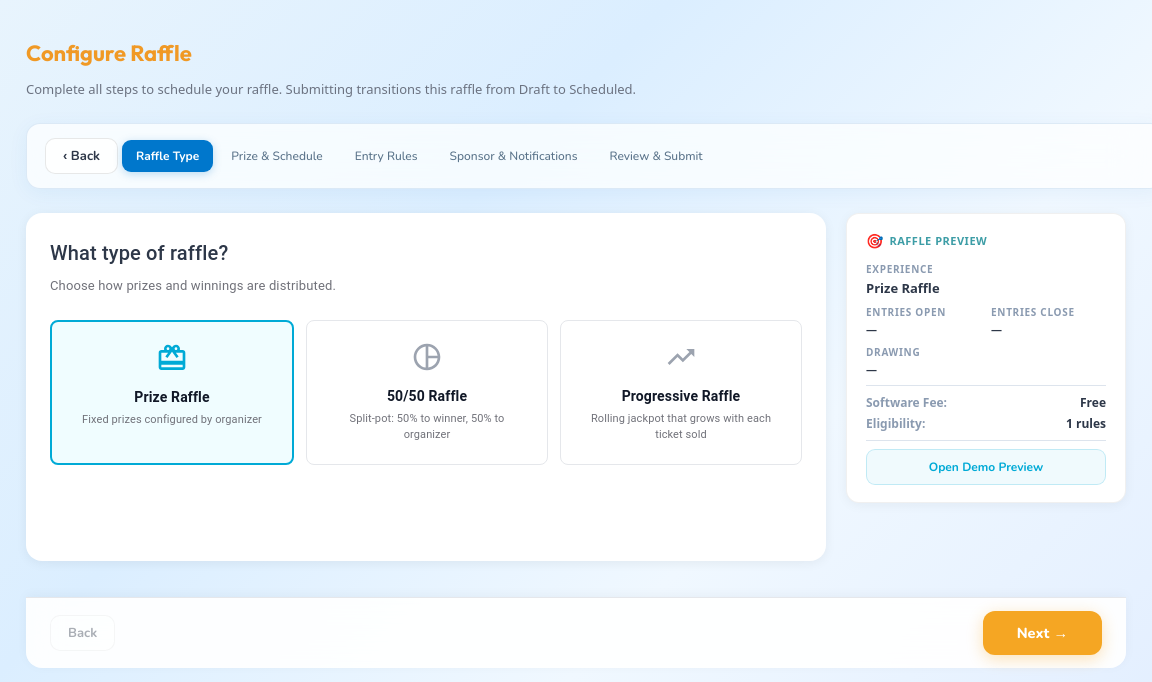
Test: RaffleConfig - 50/50 split configuration › updates winner/organizer percentages when the slider changes
Click the text "50/50 Raffle".
click(427, 392)  # box [306,320,548,465]
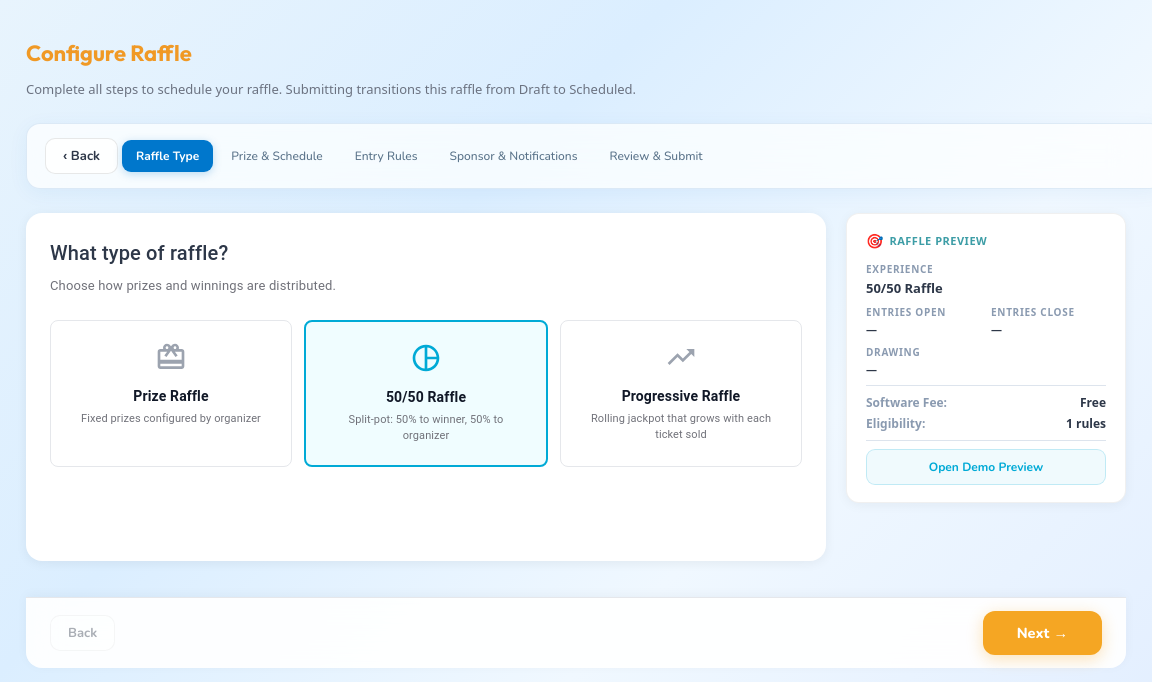
Click the button "Next →".
click(1042, 633)  # box [983,611,1102,655]
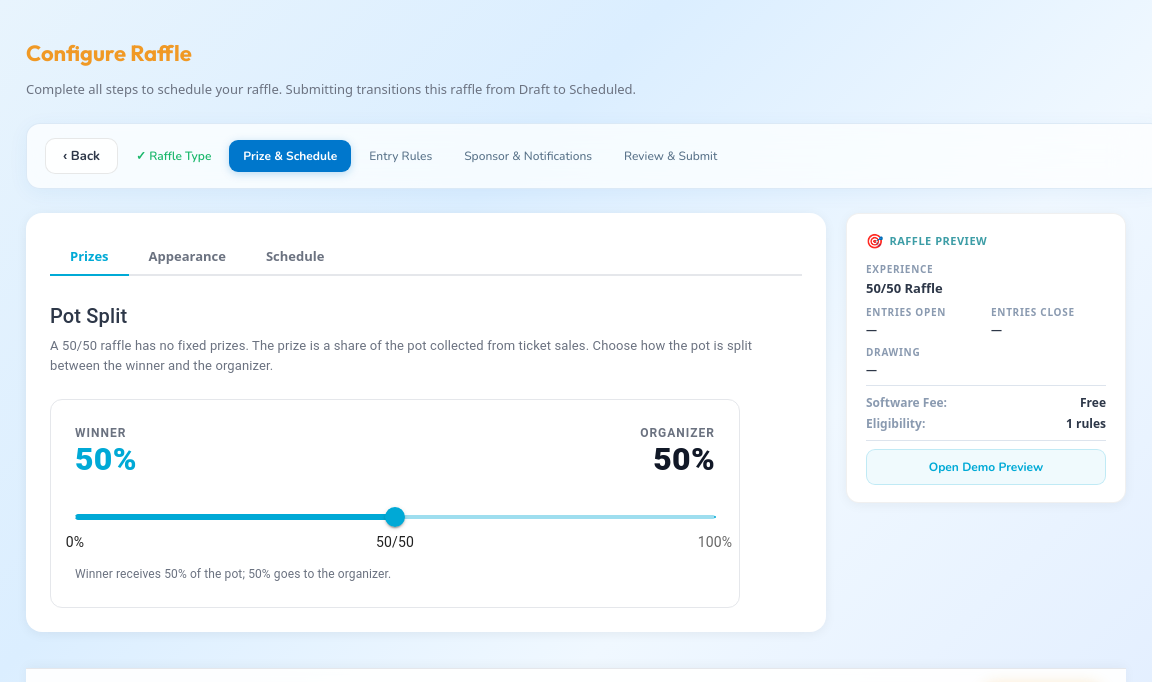
Now the heading "Pot Split" is shown, box [50,304,127,328]
Set the slider named "Winner share of the pot" to "70" at (395, 517), box [385,507,405,527]
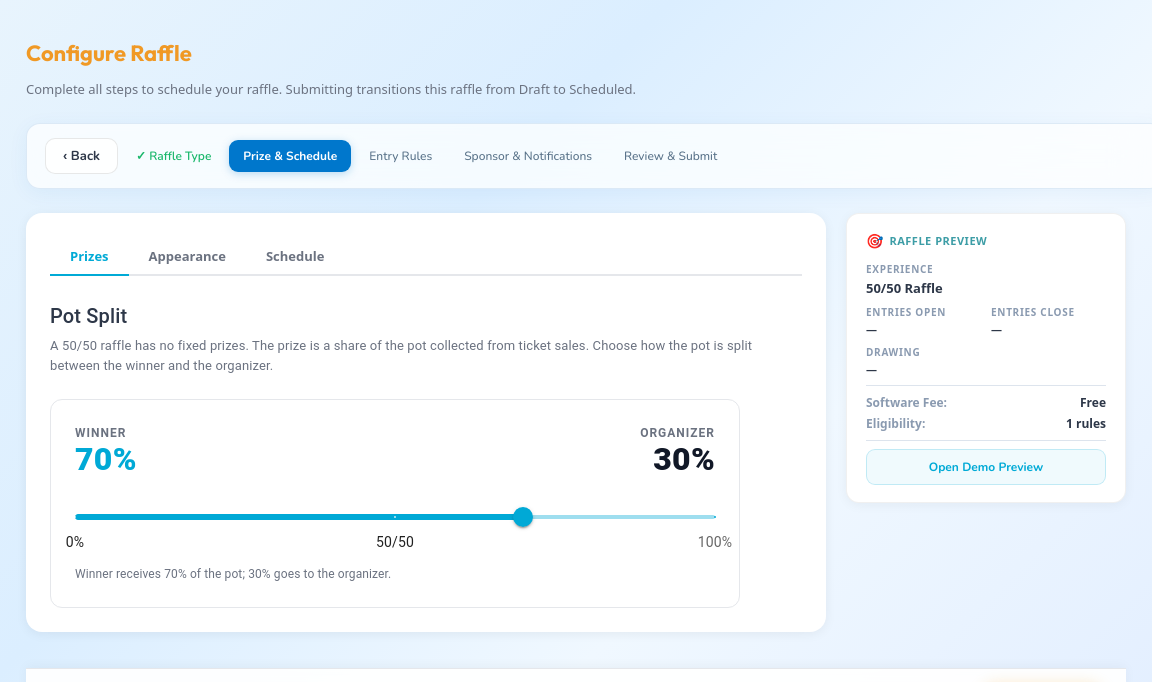
Now the text "70%" is shown, box [75,442,137,478]
Now the text "30%" is shown, box [653,440,715,478]
